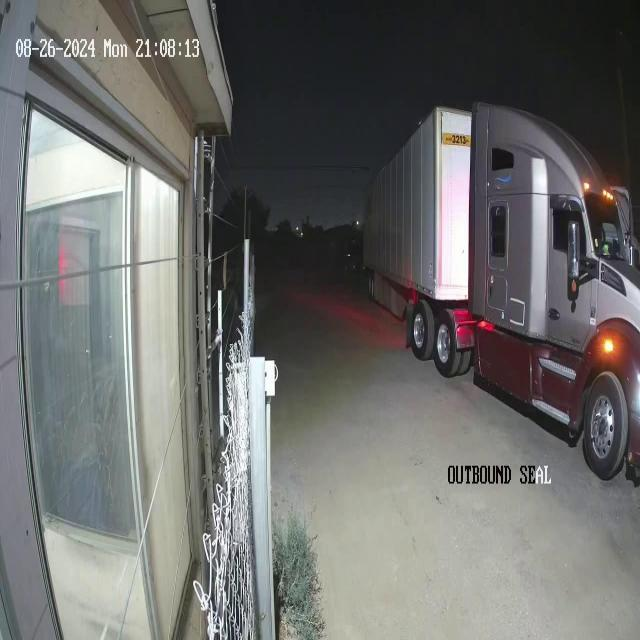TRUCK_IN: (362, 100, 640, 482)
